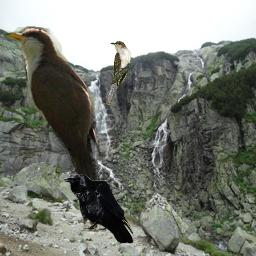Crow: (63, 174, 135, 244)
Cuckoo: (3, 26, 106, 233), (106, 41, 131, 105)
